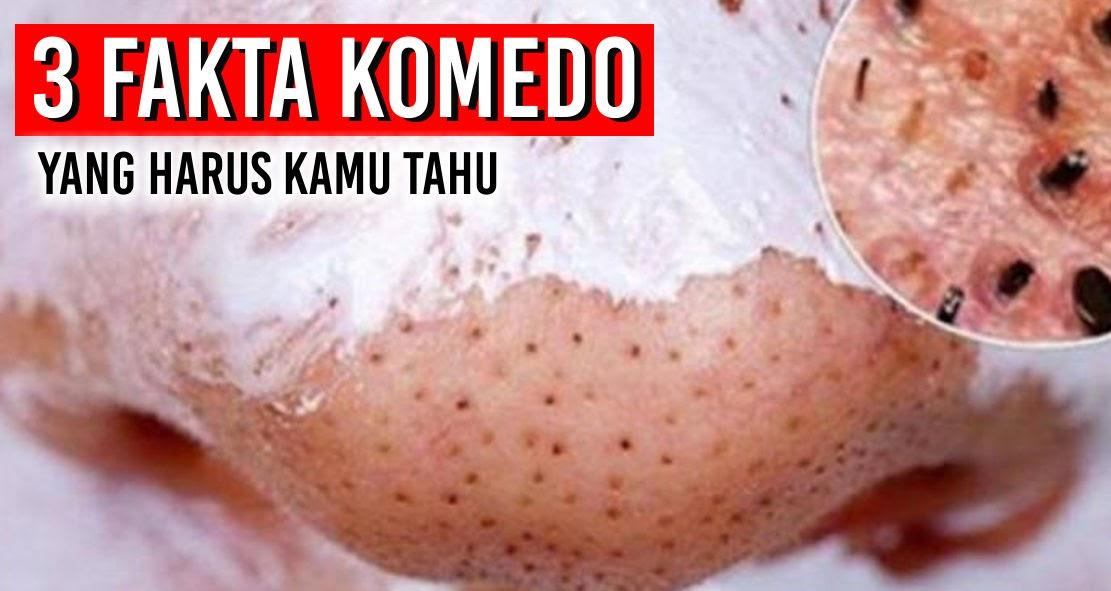Acne: (211, 242, 979, 591)
